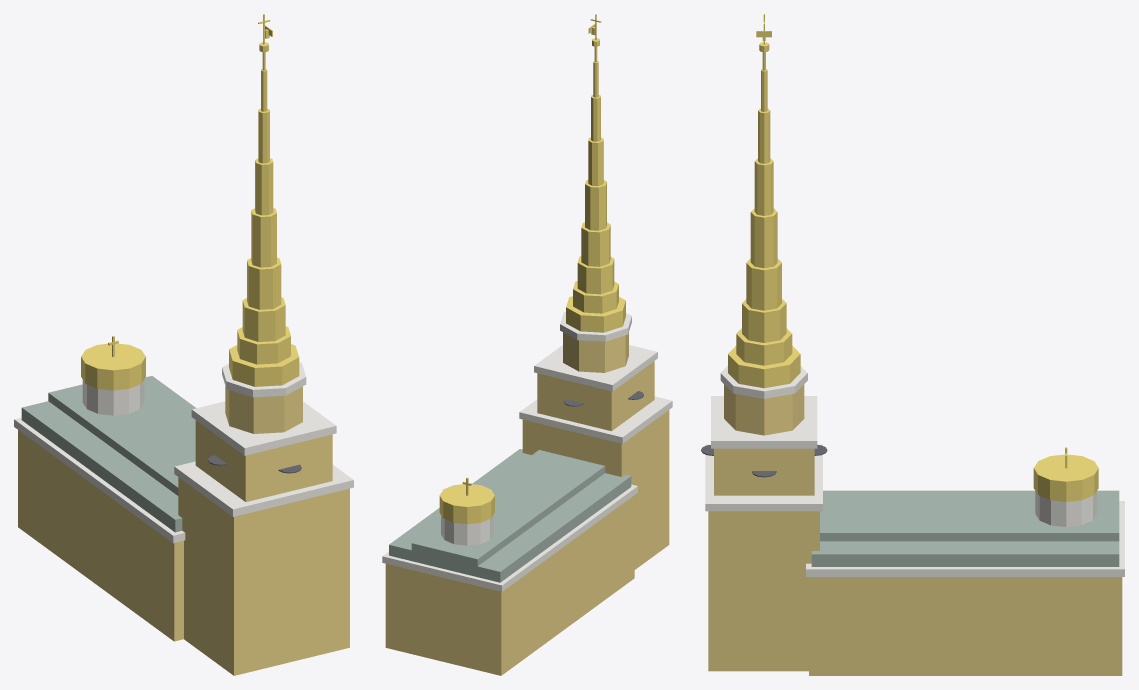
Rendered from peter_paul.glb.
The picture shows the model from 3 angles, left to right: view 1: azimuth 30°, elevation 25°; view 2: azimuth 150°, elevation 25°; view 3: azimuth 270°, elevation 25°; orthographic projection. The views are drawn at different scales.
Parts seen in each view (by area): view 1: Tower_Tier_1, Nave_Body, Nave_Roof_Ridge, Nave_Roof_Lower, Tower_Tier_2, Tower_Tier_2_Cornice, Tower_Tier_1_Cornice, Tower_Tier_3_Belfry, East_Dome_Cupola, Nave_Entablature, Spire_Gilded_Base, East_Dome_Drum (+7 smaller); view 2: Nave_Body, Tower_Tier_1, Nave_Roof_Ridge, Nave_Roof_Lower, Tower_Tier_2, Nave_Entablature, Tower_Tier_2_Cornice, Tower_Tier_1_Cornice, Tower_Tier_3_Belfry, East_Dome_Cupola, Spire_Gilded_Base, East_Dome_Drum (+7 smaller); view 3: Nave_Body, Tower_Tier_1, Nave_Roof_Ridge, Nave_Roof_Lower, Tower_Tier_2, Nave_Entablature, Tower_Tier_3_Belfry, Tower_Tier_2_Cornice, Tower_Tier_1_Cornice, East_Dome_Cupola, Spire_Gilded_Base, Spire_Needle_2 (+7 smaller).
Boxes of the visible parts, <box> form: Tower_Tier_1: <box>178,477,349,675</box>; Nave_Body: <box>18,430,183,641</box>; Nave_Roof_Ridge: <box>48,384,195,495</box>; Nave_Roof_Lower: <box>21,376,196,532</box>; Tower_Tier_2: <box>195,420,332,501</box>; Tower_Tier_2_Cornice: <box>191,401,336,455</box>; Tower_Tier_1_Cornice: <box>174,461,353,516</box>; Tower_Tier_3_Belfry: <box>225,386,302,433</box>; East_Dome_Cupola: <box>81,343,145,390</box>; Nave_Entablature: <box>14,417,185,543</box>; Spire_Gilded_Base: <box>229,344,299,386</box>; East_Dome_Drum: <box>82,380,144,415</box>; Nave_Body: <box>385,495,634,675</box>; Tower_Tier_1: <box>522,410,669,569</box>; Nave_Roof_Ridge: <box>411,450,605,566</box>; Nave_Roof_Lower: <box>389,449,631,582</box>; Tower_Tier_2: <box>537,361,654,431</box>; Nave_Entablature: <box>382,484,637,591</box>; Tower_Tier_2_Cornice: <box>534,345,657,391</box>; Tower_Tier_1_Cornice: <box>519,396,672,443</box>; Tower_Tier_3_Belfry: <box>563,332,628,372</box>; East_Dome_Cupola: <box>439,484,494,524</box>; Spire_Gilded_Base: <box>566,296,625,332</box>; East_Dome_Drum: <box>441,515,493,545</box>; Nave_Body: <box>809,577,1122,675</box>; Tower_Tier_1: <box>708,511,819,671</box>; Nave_Roof_Ridge: <box>820,495,1119,541</box>; Nave_Roof_Lower: <box>811,490,1119,566</box>; Tower_Tier_2: <box>714,448,814,495</box>; Nave_Entablature: <box>806,501,1124,576</box>; Tower_Tier_3_Belfry: <box>724,384,804,435</box>; Tower_Tier_2_Cornice: <box>711,396,817,448</box>; Tower_Tier_1_Cornice: <box>705,444,822,511</box>; East_Dome_Cupola: <box>1033,454,1098,501</box>; Spire_Gilded_Base: <box>728,345,800,388</box>; Spire_Needle_2: <box>746,258,781,310</box>.
Bounding box in the file's own units: 29 × 124 × 75.8.
